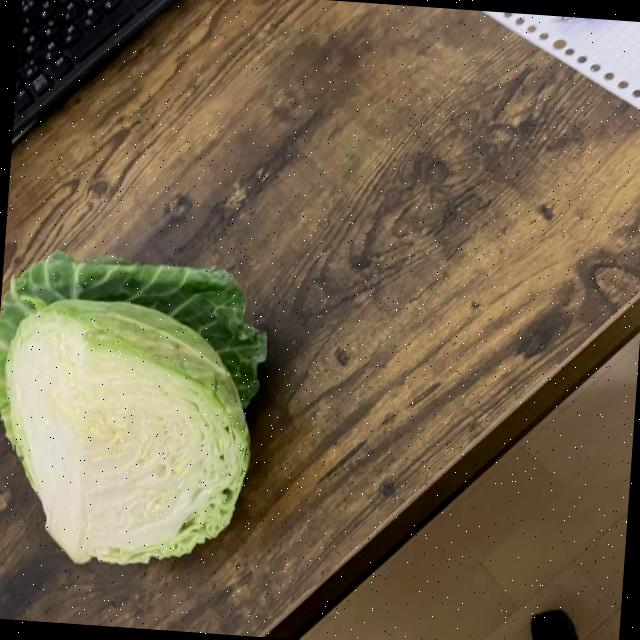cabbage: (0, 246, 275, 578)
